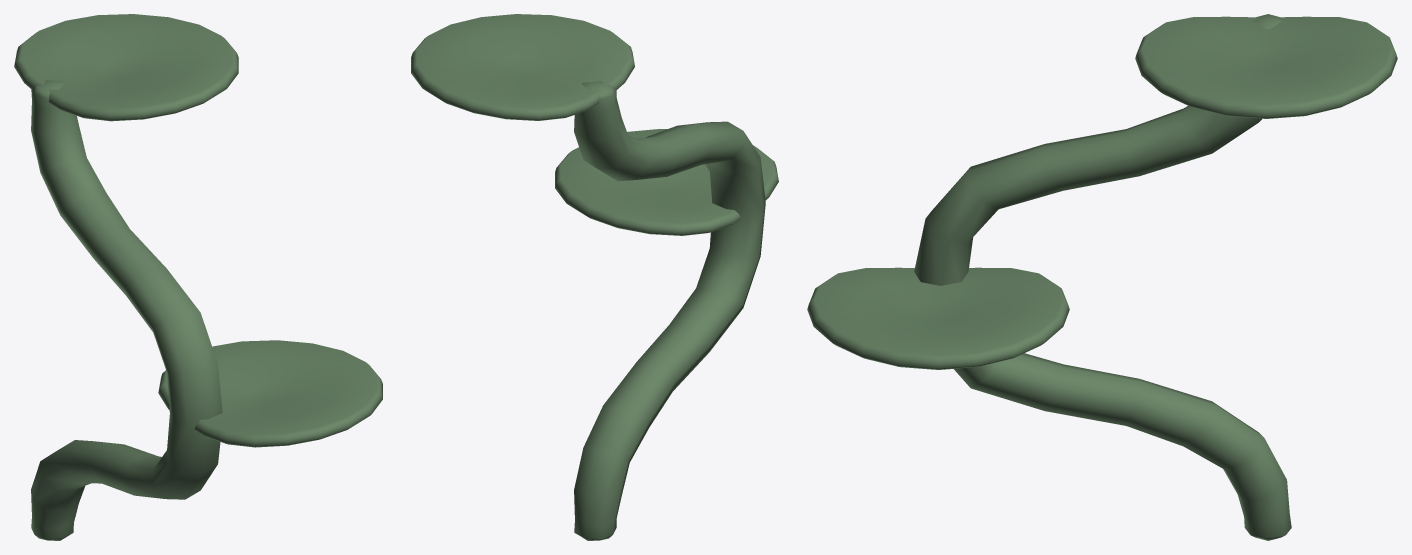
File: PlantGrowingStatic2.fbx
3 views of the same model, side by side, from view 1: azimuth 30°, elevation 25°; view 2: azimuth 150°, elevation 25°; view 3: azimuth 270°, elevation 25° (orthographic). The views are drawn at different scales.
Parts seen in each view (by area): view 1: PlantGrowing3; view 2: PlantGrowing3; view 3: PlantGrowing3.
Boxes of the visible parts, left/top/right/bottom form: PlantGrowing3: left=14, top=14, right=382, bottom=540; PlantGrowing3: left=411, top=14, right=778, bottom=540; PlantGrowing3: left=807, top=14, right=1397, bottom=540.
Size of the model in its own units: 2.26 by 5.06 by 5.17.
